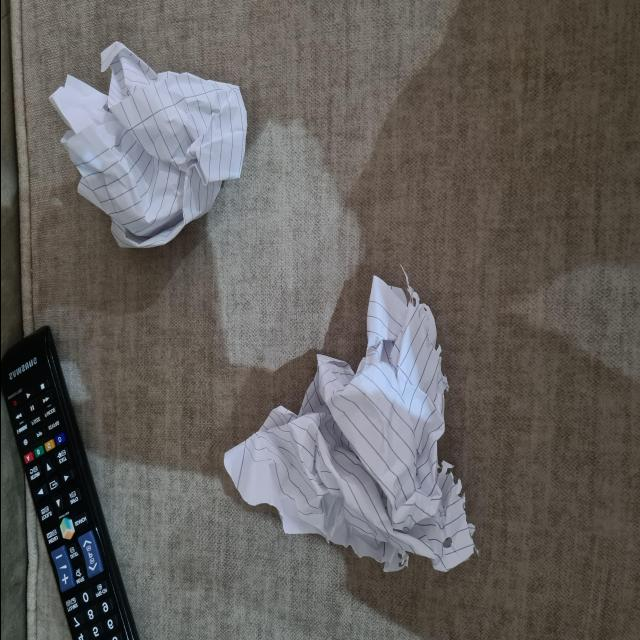kertas: (224, 332, 468, 563), (49, 44, 242, 250)
